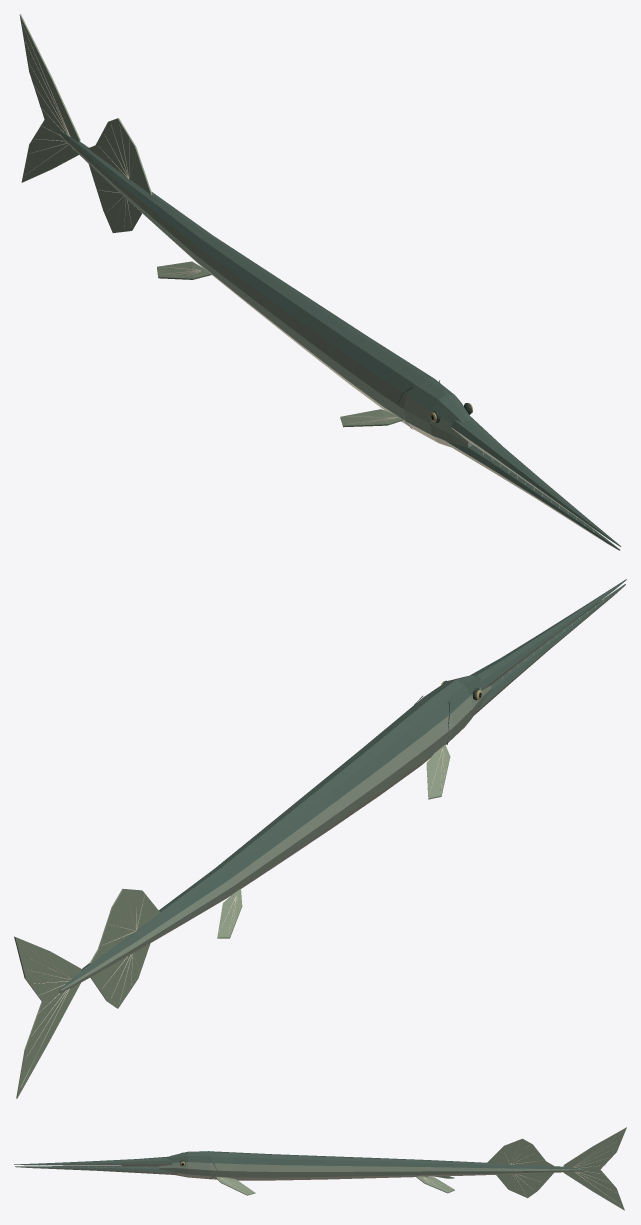
3 views of the same model, one above another, from view 1: azimuth 30°, elevation 25°; view 2: azimuth 150°, elevation 25°; view 3: azimuth 270°, elevation 25° (orthographic). The views are drawn at different scales.
Parts seen in each view (by area): view 1: cranial-and-needle-trunk, forked-caudal-fin, long-pointed-upper-jaw, posterior-dorsal-fin, opposing-long-lower-jaw, posterior-anal-fin, subtle-finite-fin-rays, left-pectoral-fin, left-pelvic-fin; view 2: cranial-and-needle-trunk, forked-caudal-fin, posterior-dorsal-fin, long-pointed-upper-jaw, posterior-anal-fin, opposing-long-lower-jaw, subtle-finite-fin-rays, left-pectoral-fin, left-pelvic-fin; view 3: cranial-and-needle-trunk, forked-caudal-fin, posterior-dorsal-fin, posterior-anal-fin, long-pointed-upper-jaw, opposing-long-lower-jaw, subtle-finite-fin-rays, right-pectoral-fin, right-pelvic-fin.
Boxes of the visible parts, x1,y1,x2,y2 form: cranial-and-needle-trunk: [59, 130, 472, 447]; forked-caudal-fin: [19, 14, 80, 182]; long-pointed-upper-jaw: [451, 416, 621, 546]; posterior-dorsal-fin: [88, 118, 152, 194]; opposing-long-lower-jaw: [445, 441, 620, 550]; posterior-anal-fin: [88, 164, 141, 232]; subtle-finite-fin-rays: [22, 24, 397, 424]; left-pectoral-fin: [340, 409, 402, 427]; left-pelvic-fin: [157, 261, 211, 279]; cranial-and-needle-trunk: [59, 675, 491, 993]; forked-caudal-fin: [14, 936, 80, 1098]; posterior-dorsal-fin: [89, 888, 160, 963]; long-pointed-upper-jaw: [470, 579, 626, 690]; posterior-anal-fin: [90, 943, 150, 1008]; opposing-long-lower-jaw: [474, 584, 625, 715]; subtle-finite-fin-rays: [18, 747, 446, 1087]; left-pectoral-fin: [426, 744, 450, 799]; left-pelvic-fin: [217, 889, 242, 938]; cranial-and-needle-trunk: [159, 1151, 583, 1180]; forked-caudal-fin: [563, 1127, 626, 1210]; posterior-dorsal-fin: [487, 1138, 553, 1166]; posterior-anal-fin: [496, 1173, 553, 1198]; long-pointed-upper-jaw: [14, 1156, 172, 1165]; opposing-long-lower-jaw: [15, 1166, 177, 1174]; subtle-finite-fin-rays: [220, 1133, 620, 1205]; right-pectoral-fin: [215, 1177, 255, 1195]; right-pelvic-fin: [416, 1176, 454, 1193].
Size of the model in its own units: 0.05 by 0.09 by 0.599.
